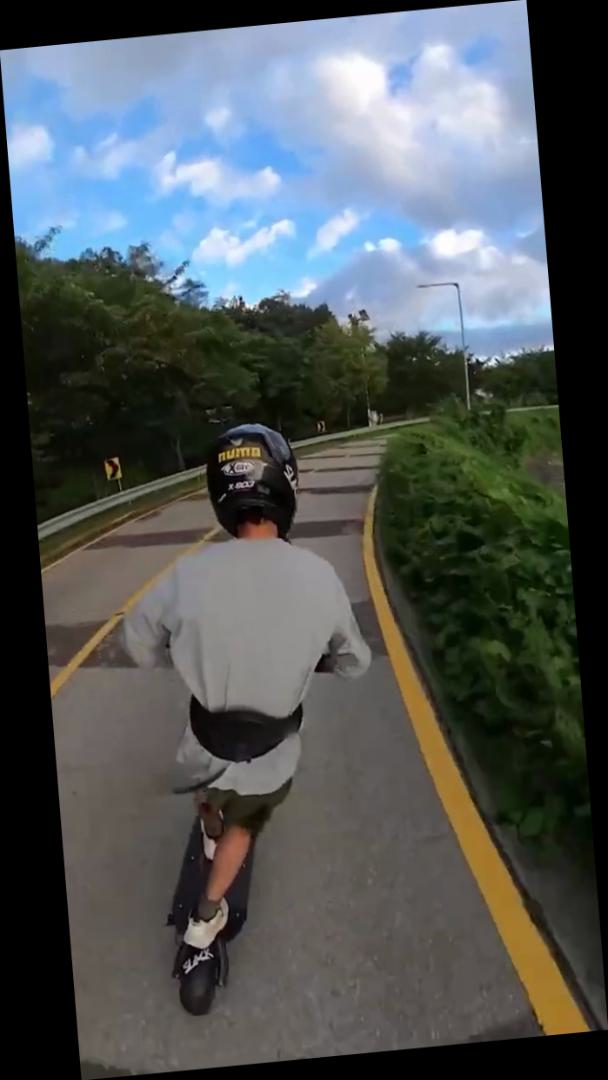helmet: (92, 409, 405, 1025)
